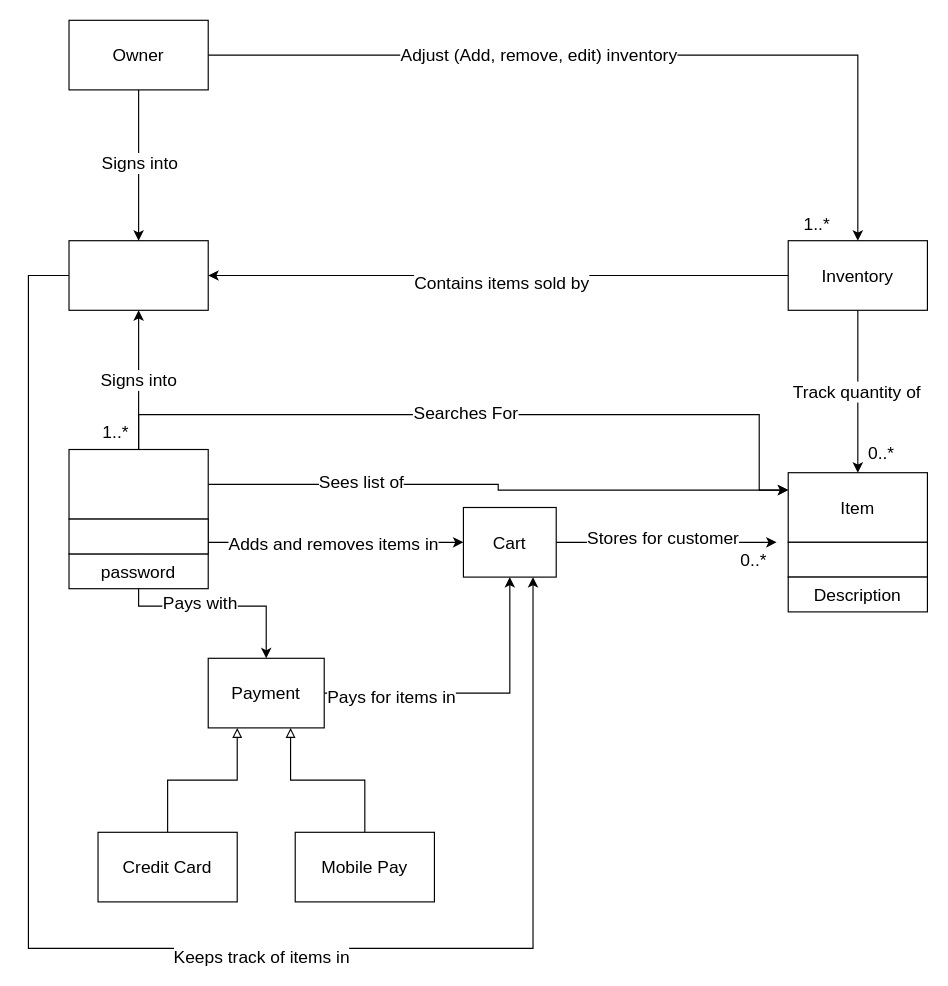
This 948x986 diagram has some shape labels left out. Here are the shapes that lost their labels. From the top down, the box of each, then its label:
(68, 240, 208, 310): E-Store
(68, 448, 208, 519): Customer
(68, 518, 208, 554): username
(787, 541, 927, 577): Price
